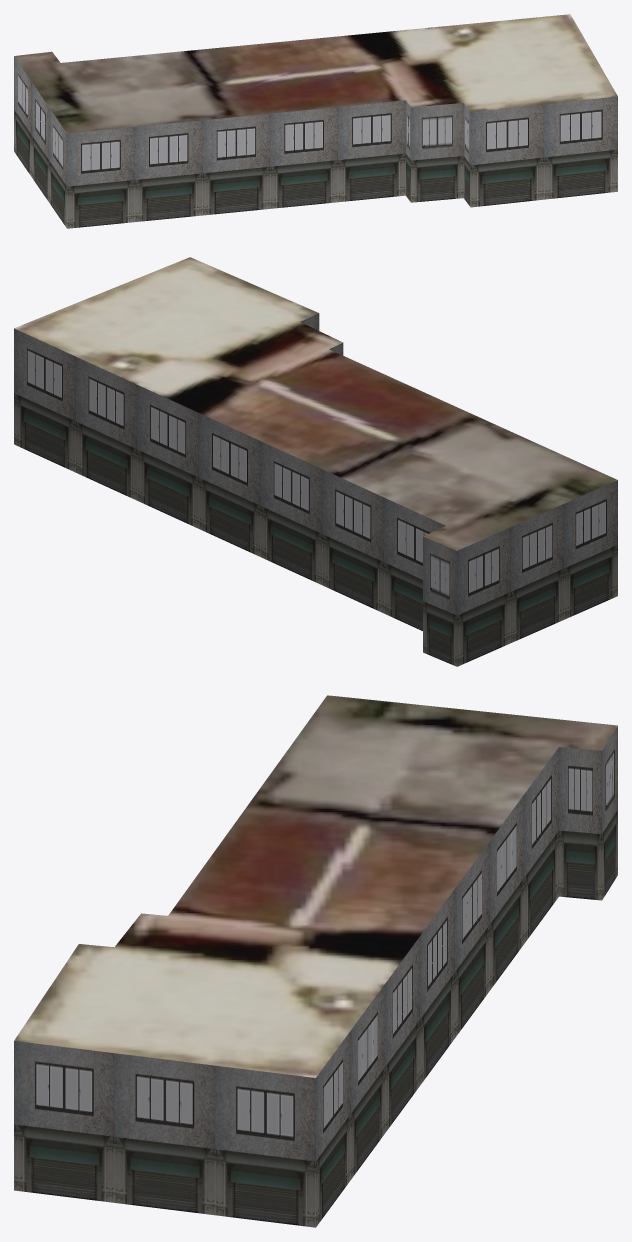
The model's file is T_1SWS74P1BG.dae.
3 renders of one model, top to bottom at view 1: azimuth 30°, elevation 25°; view 2: azimuth 150°, elevation 25°; view 3: azimuth 270°, elevation 25°, orthographic. The views are drawn at different scales.
Parts seen in each view (by area): view 1: SketchUp (×12); view 2: SketchUp (×7); view 3: SketchUp (×9).
Boxes of the visible parts, x1,y1,x2,y2 form: SketchUp (×12): [14, 14, 617, 228]; SketchUp (×7): [14, 257, 617, 666]; SketchUp (×9): [14, 695, 617, 1227].
Size of the model in its own units: 40.93 by 27.29 by 7.46.
3 materials, 3 textured.
